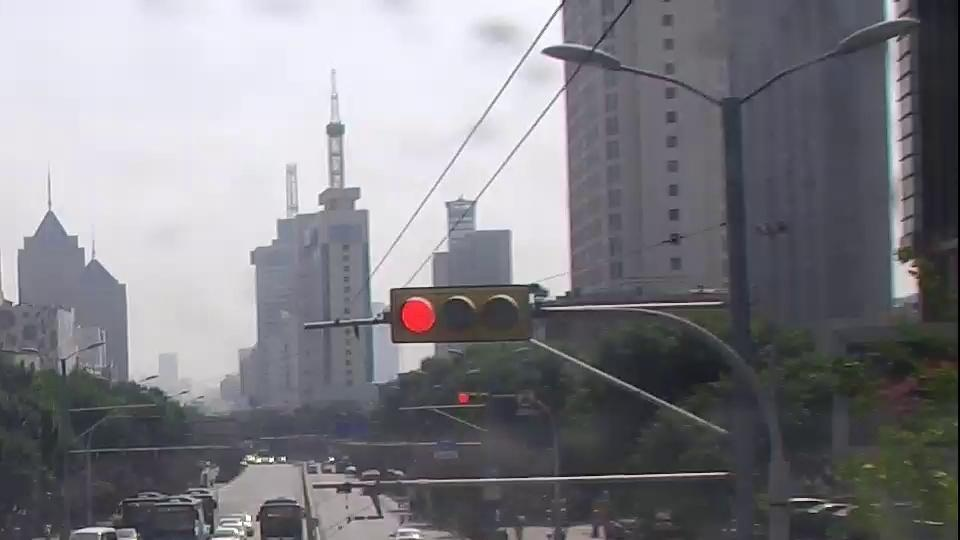red: (398, 296, 437, 333), (457, 392, 473, 404)
